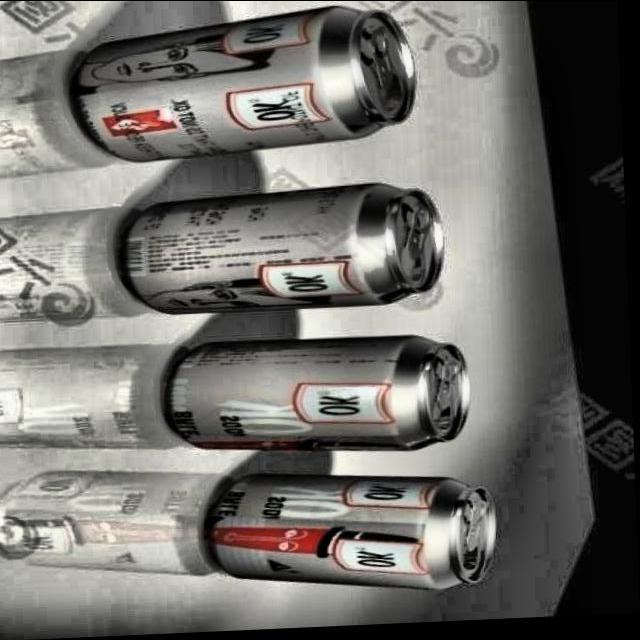litter: (71, 0, 428, 167), (115, 180, 453, 322), (152, 326, 486, 468), (208, 462, 498, 606)
